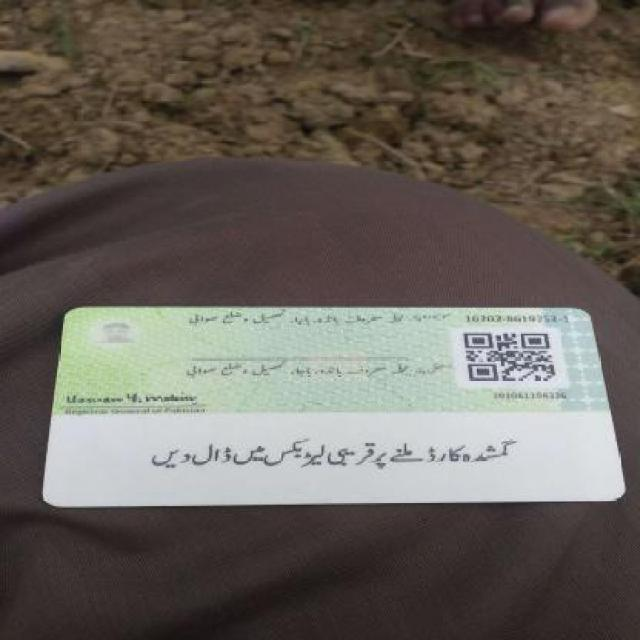Back: (43, 304, 626, 504)
